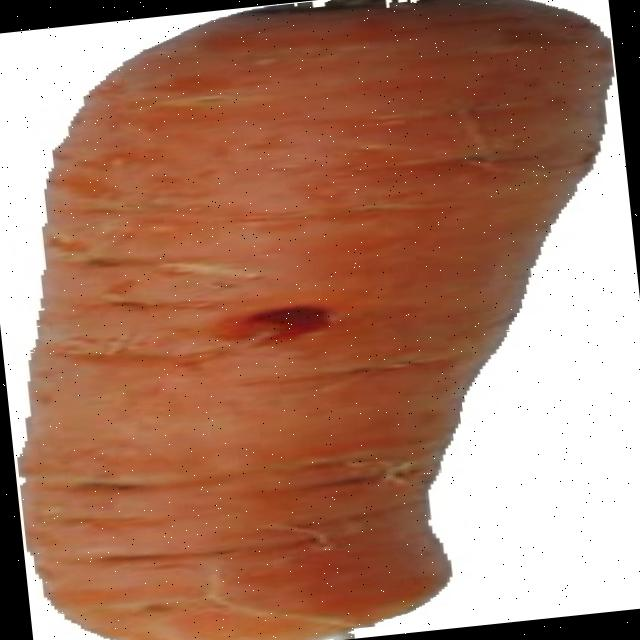carrot: (22, 0, 609, 640)
